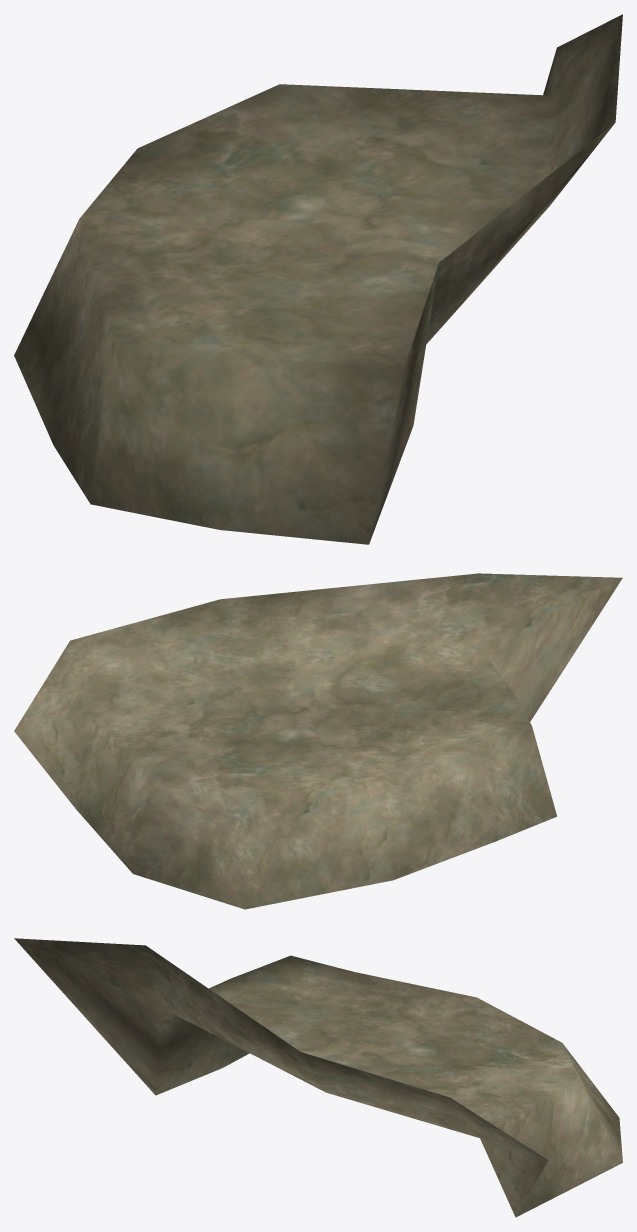
File: EKH_GROTTO_PS_GR_OBJECT16.fbx
The picture shows the model from 3 angles, top to bottom: view 1: azimuth 30°, elevation 25°; view 2: azimuth 150°, elevation 25°; view 3: azimuth 270°, elevation 25°; orthographic projection. The views are drawn at different scales.
Visible parts, largest first — view 1: EKH_GROTTO_PS_GR_OBJECT16; view 2: EKH_GROTTO_PS_GR_OBJECT16; view 3: EKH_GROTTO_PS_GR_OBJECT16.
Part boxes in pixels (x1,y1,x2,y2): EKH_GROTTO_PS_GR_OBJECT16: (14,14,622,544); EKH_GROTTO_PS_GR_OBJECT16: (14,573,622,909); EKH_GROTTO_PS_GR_OBJECT16: (14,938,622,1217).
Bounding box in the file's own units: 22657 × 8776 × 28284.
Materials: 1 (1 with a texture image).
